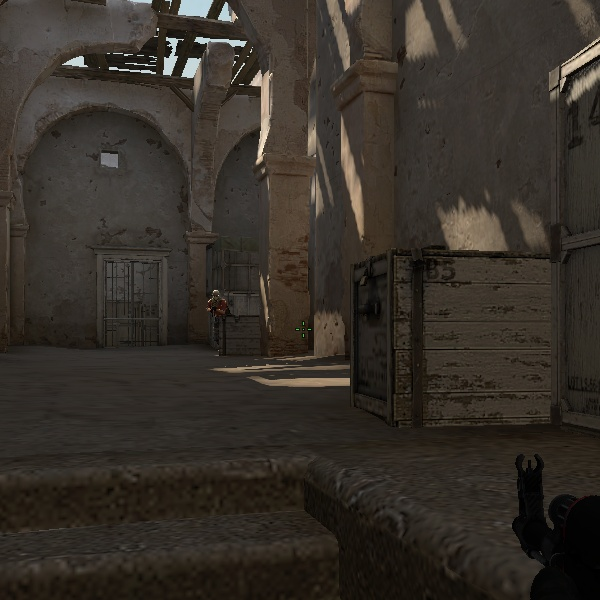t_body: (198, 286, 233, 353)
t_head: (209, 287, 224, 304)
